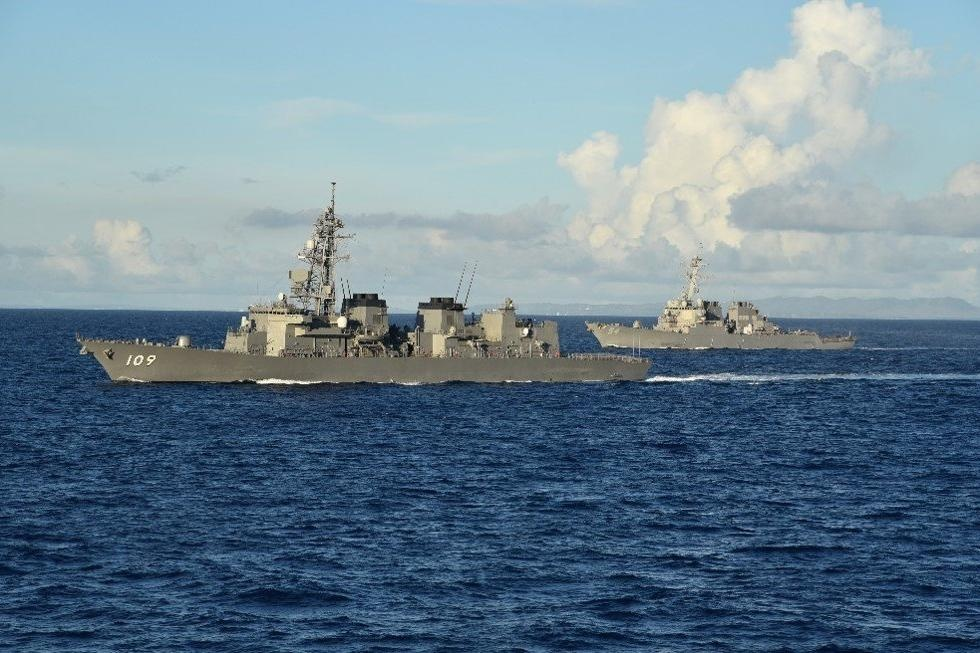warship: (73, 210, 654, 390), (589, 247, 857, 352)
